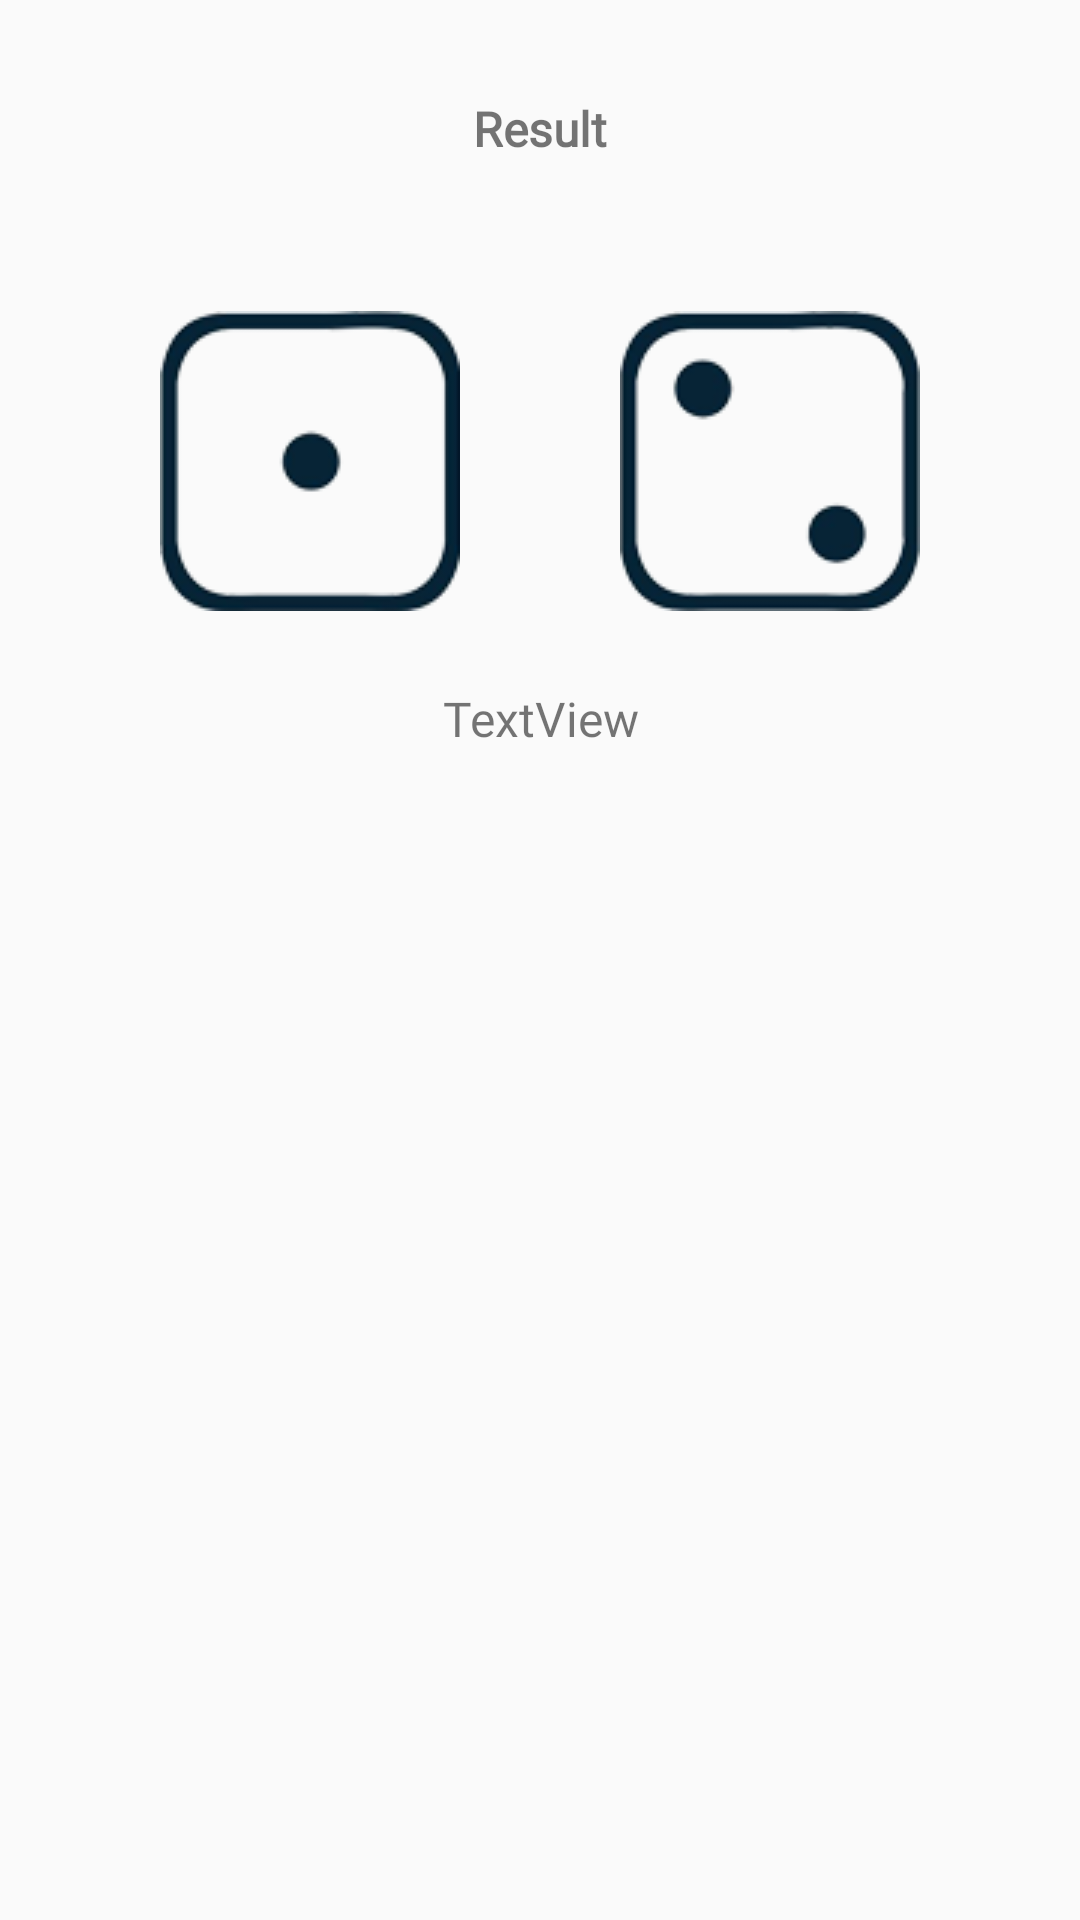

Screen size 1080 x 1920. Icon name, then its center in pixels as [x,y]:
dice one: [310,461]
dice two: [770,461]
